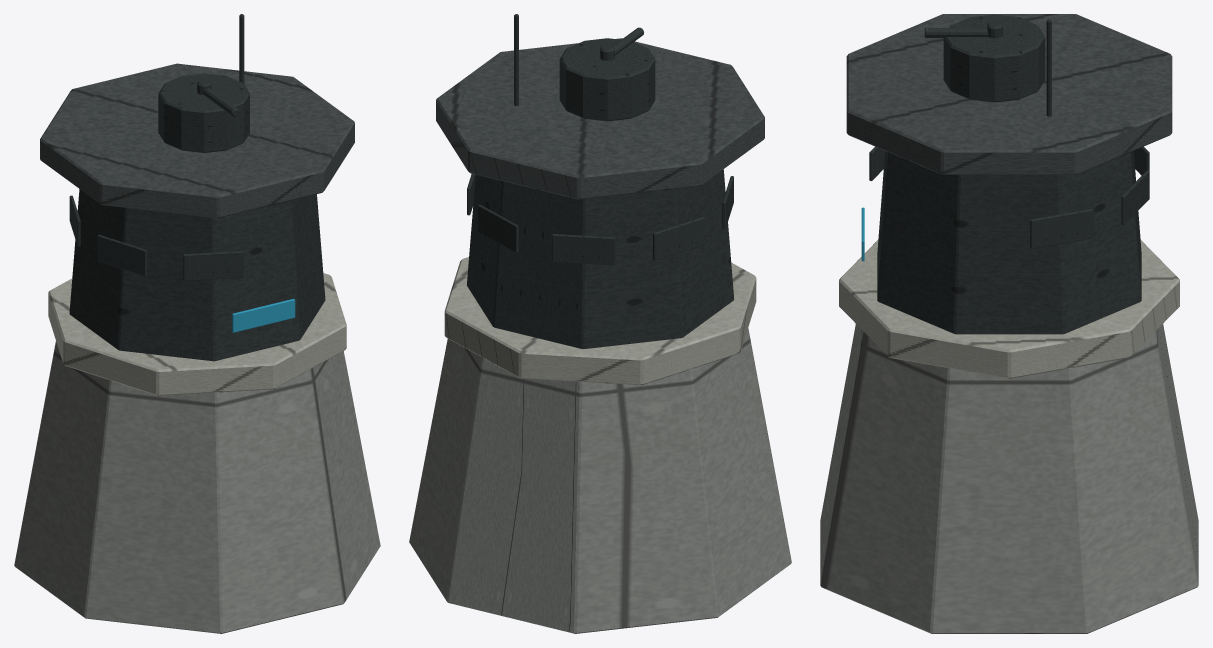
The model's file is edificio-tower-e5-BaPhMN2d.glb.
3 renders of one model, left to right at view 1: azimuth 30°, elevation 25°; view 2: azimuth 150°, elevation 25°; view 3: azimuth 270°, elevation 25°, orthographic. The views are drawn at different scales.
Parts seen in each view (by area): view 1: envolvente_torre, mecanismo_ataque_torre_e5, team_color; view 2: envolvente_torre, mecanismo_ataque_torre_e5; view 3: envolvente_torre, mecanismo_ataque_torre_e5.
Boxes of the visible parts, <box> form: envolvente_torre: <box>14,63,380,633</box>; mecanismo_ataque_torre_e5: <box>158,14,249,152</box>; team_color: <box>232,298,295,332</box>; envolvente_torre: <box>409,38,791,633</box>; mecanismo_ataque_torre_e5: <box>514,14,655,121</box>; envolvente_torre: <box>820,14,1198,633</box>; mecanismo_ataque_torre_e5: <box>924,14,1051,116</box>.
Size of the model in its own units: 38.01 by 63 by 38.01.
Materials: 2 (1 with a texture image).
